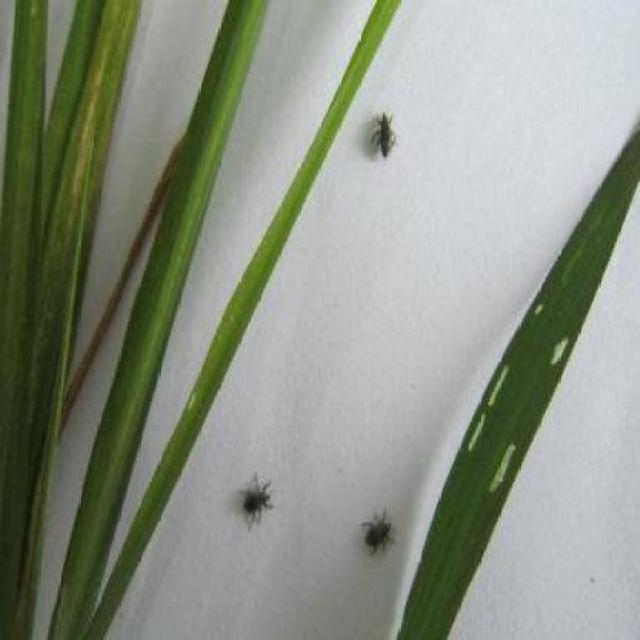rice-bug: (243, 475, 275, 528), (363, 509, 395, 557), (374, 110, 398, 158)
